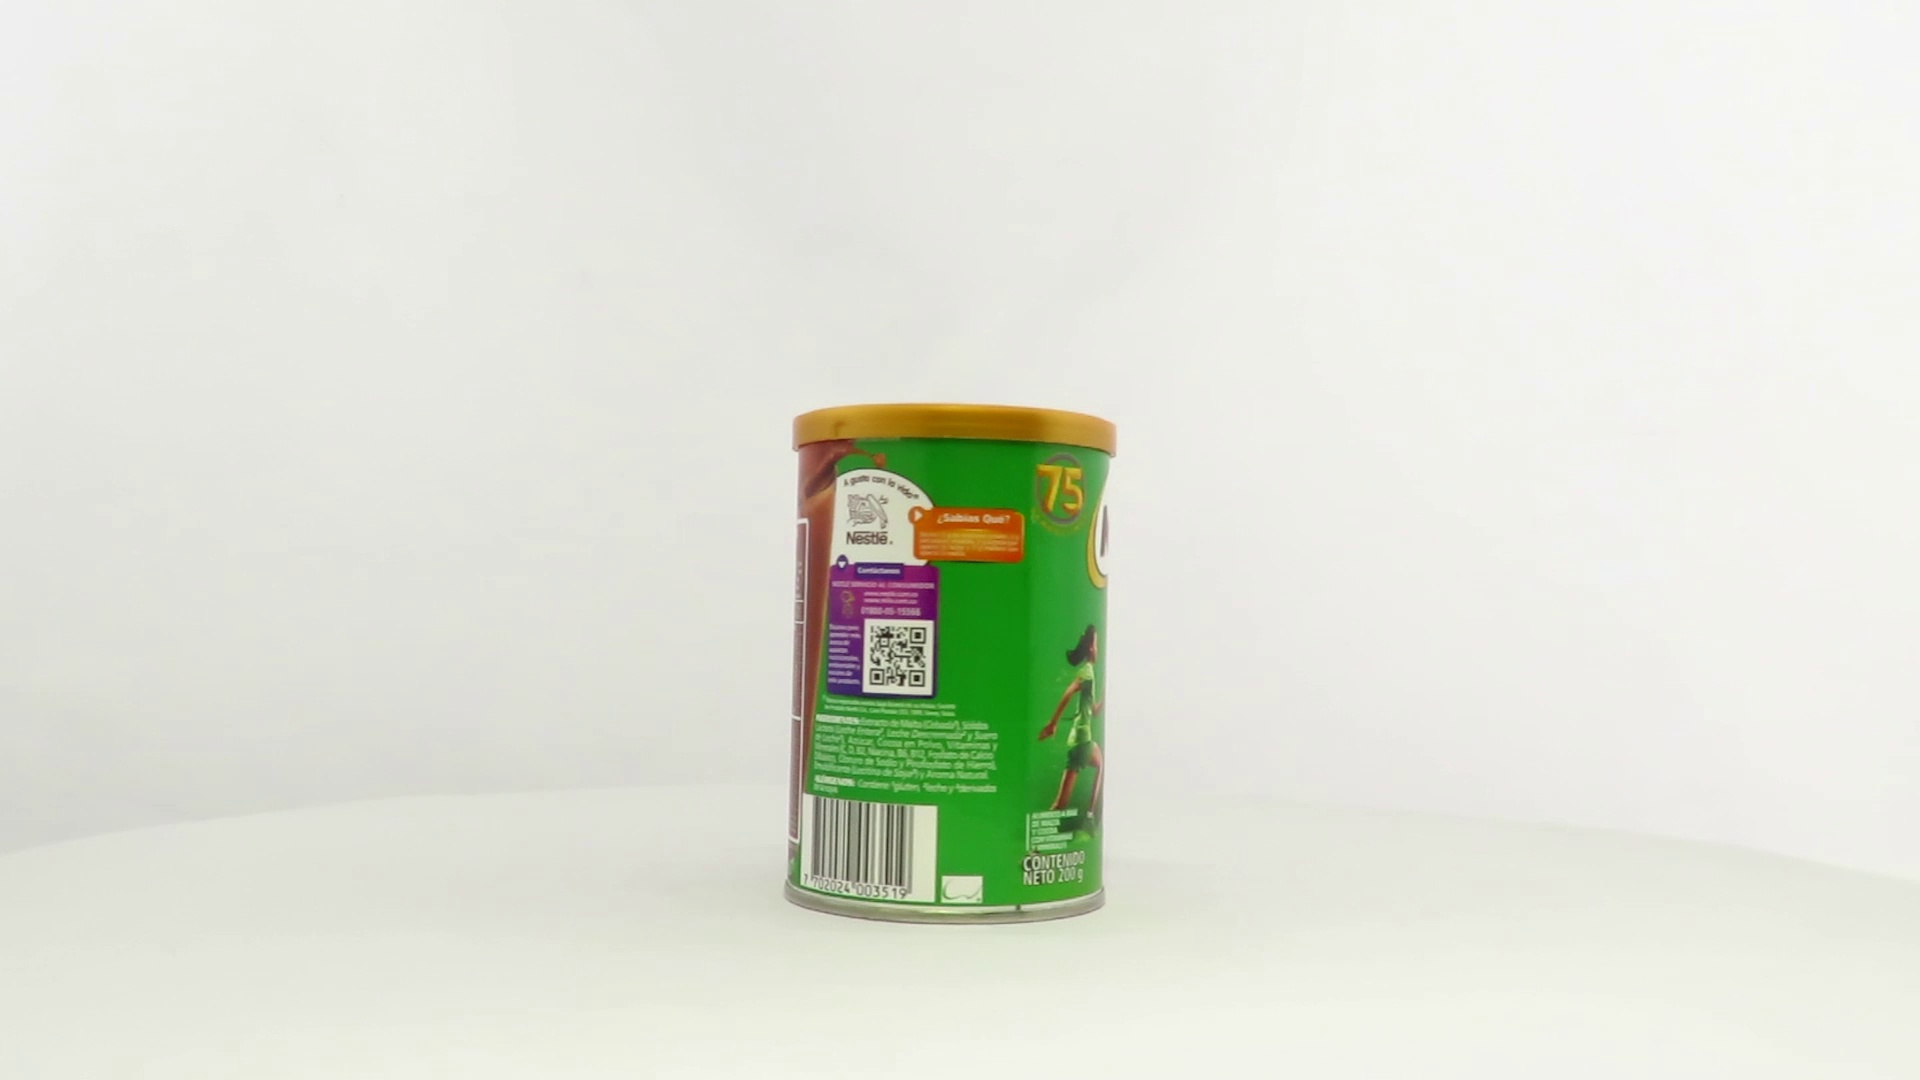COL0170203LAT20000: (778, 398, 1124, 931)
